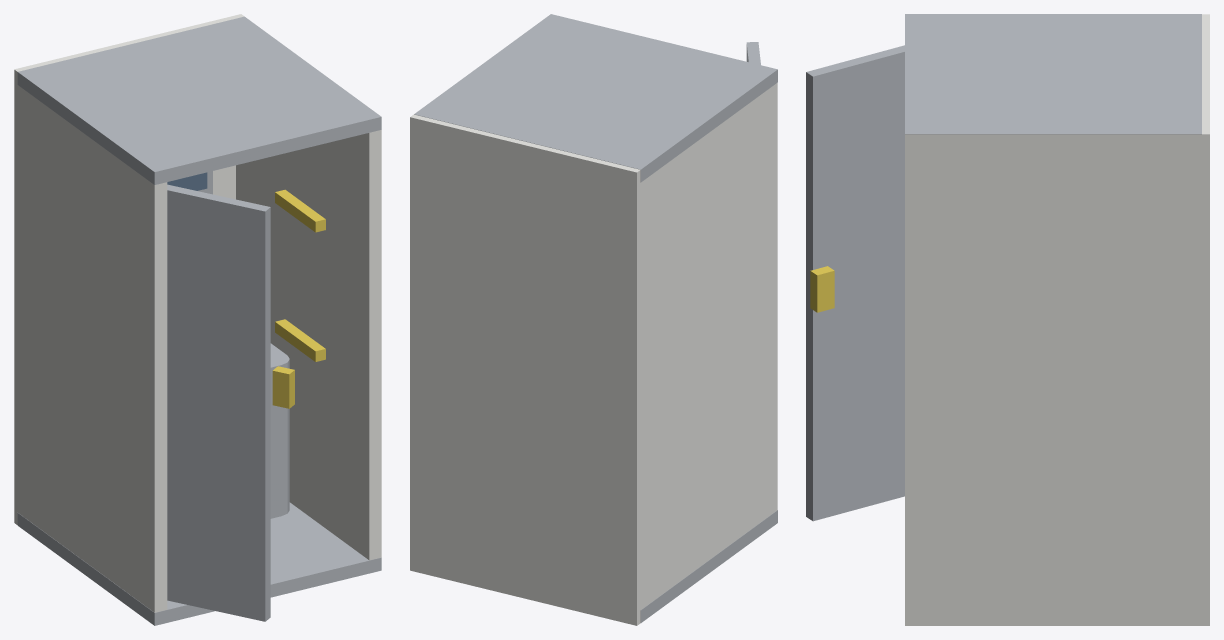
The model's file is orbital-station-and-docking-bays-waste-hygiene-stall-1c50ee57__24582.glb.
3 renders of one model, left to right at view 1: azimuth 30°, elevation 25°; view 2: azimuth 150°, elevation 25°; view 3: azimuth 270°, elevation 25°, orthographic. The views are drawn at different scales.
Visible parts, largest first — view 1: waste-hygiene-stall, stall-door (×2); view 2: waste-hygiene-stall; view 3: waste-hygiene-stall, stall-door (×2).
Boxes of the visible parts, <box> form: waste-hygiene-stall: <box>14,14,381,625</box>; stall-door (×2): <box>167,184,294,621</box>; waste-hygiene-stall: <box>410,14,777,625</box>; waste-hygiene-stall: <box>905,14,1209,625</box>; stall-door (×2): <box>806,45,904,521</box>.
Size of the model in its own units: 1.1 by 2.1 by 1.56.
